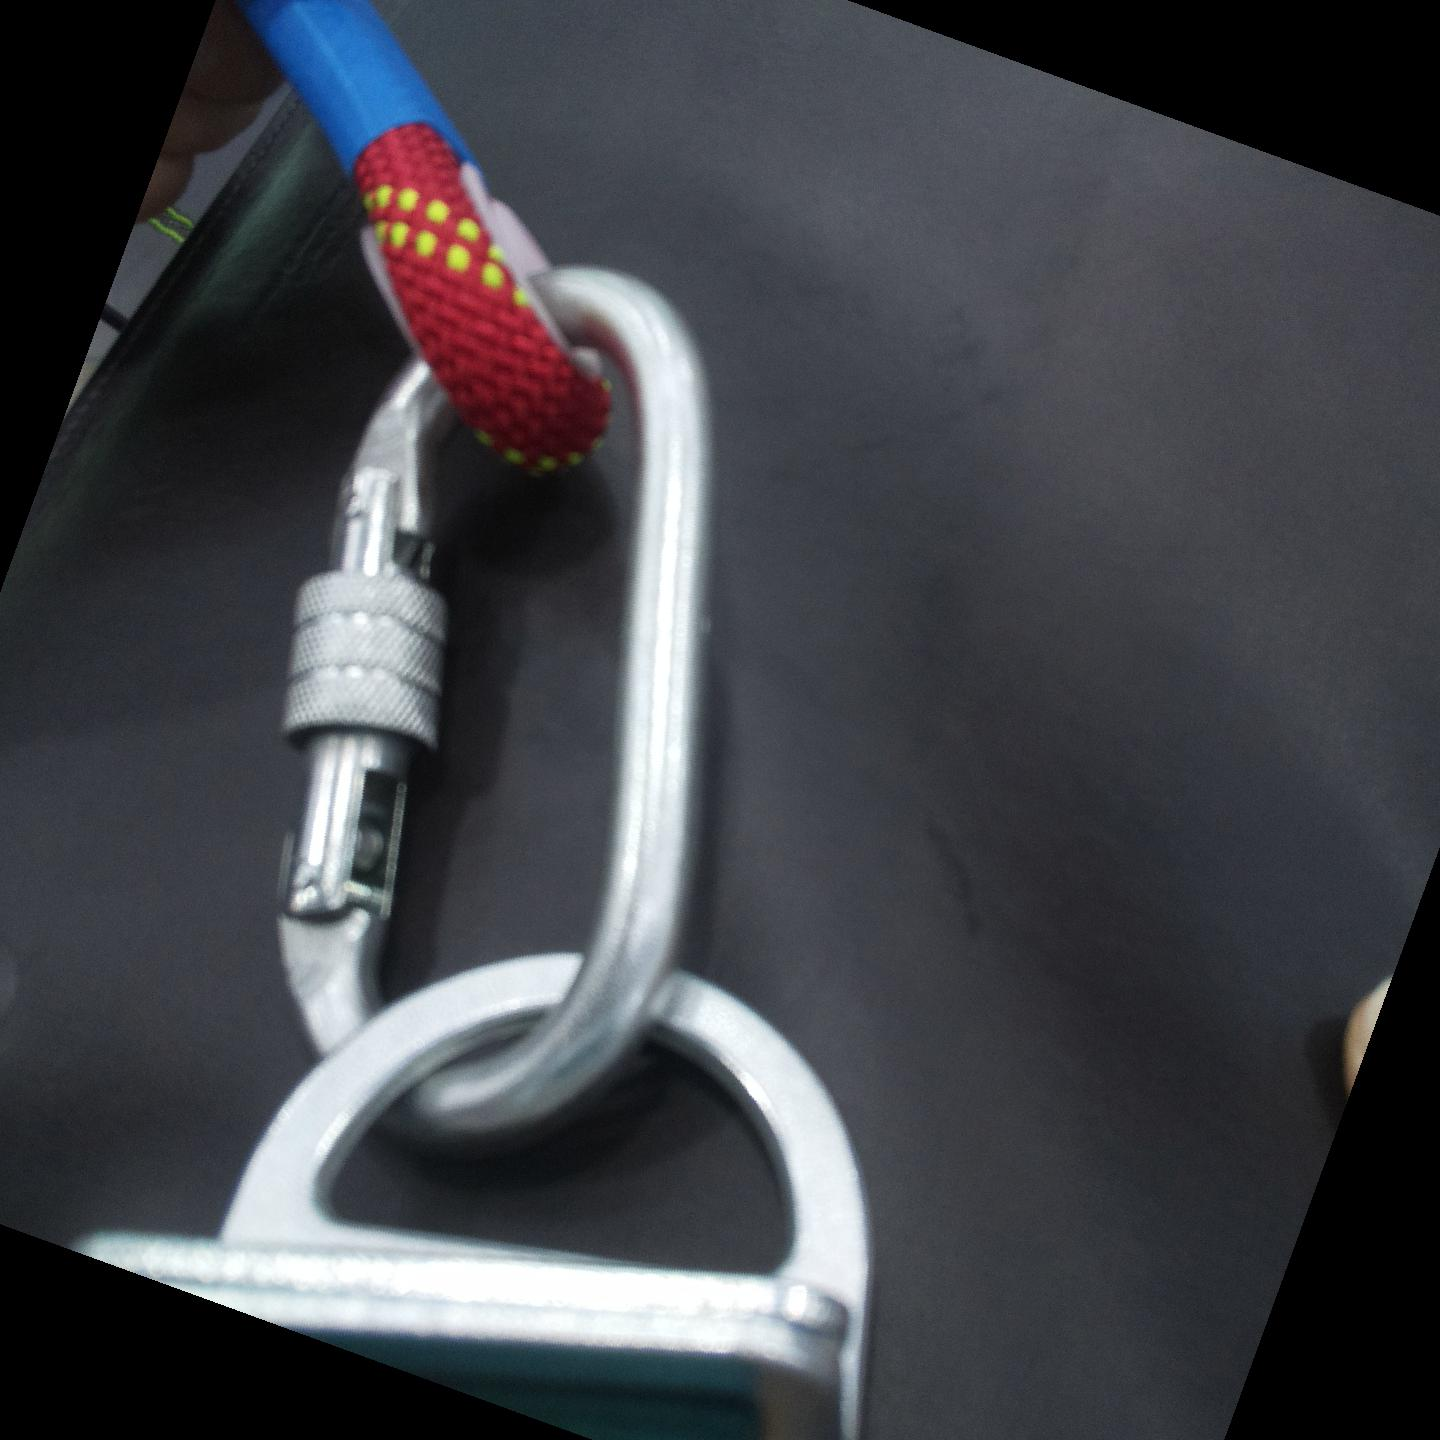SUCCESS: (252, 529, 884, 1280)
